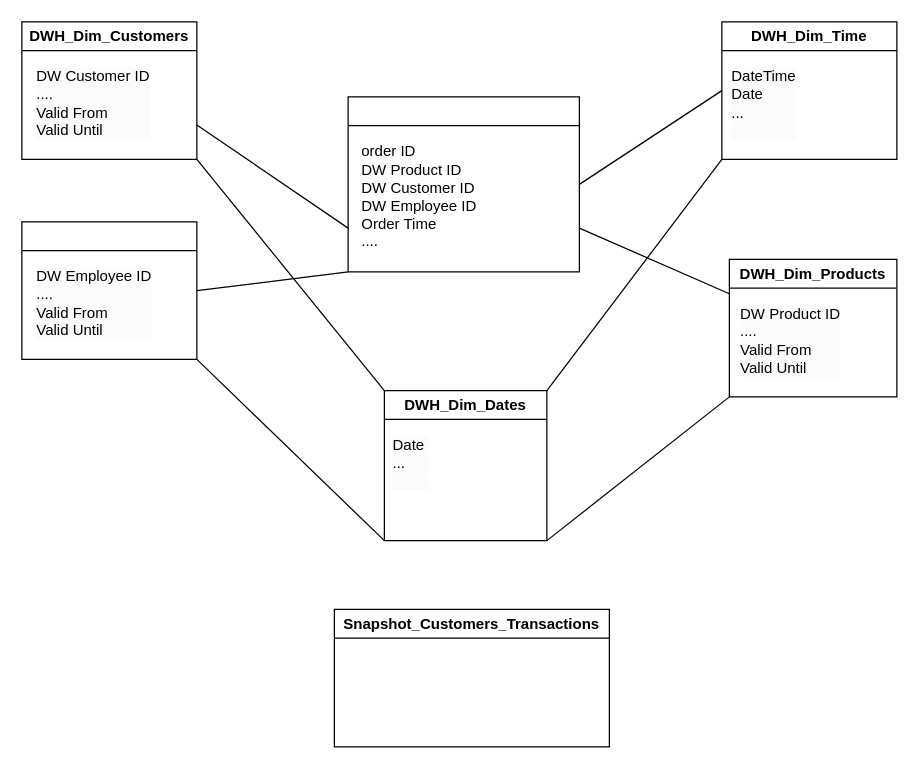
The diagram is 919 pixels wide and 769 high, and some of its shapes have lost their labels. The shapes that lost their labels are listed below. From the top down, each one's box as (x1, y1, x2, y2) in pixels, then its label:
(347, 96, 579, 272): DWH_Fact_Product_In_Order
(21, 221, 197, 359): DWH_Dim_Employees
